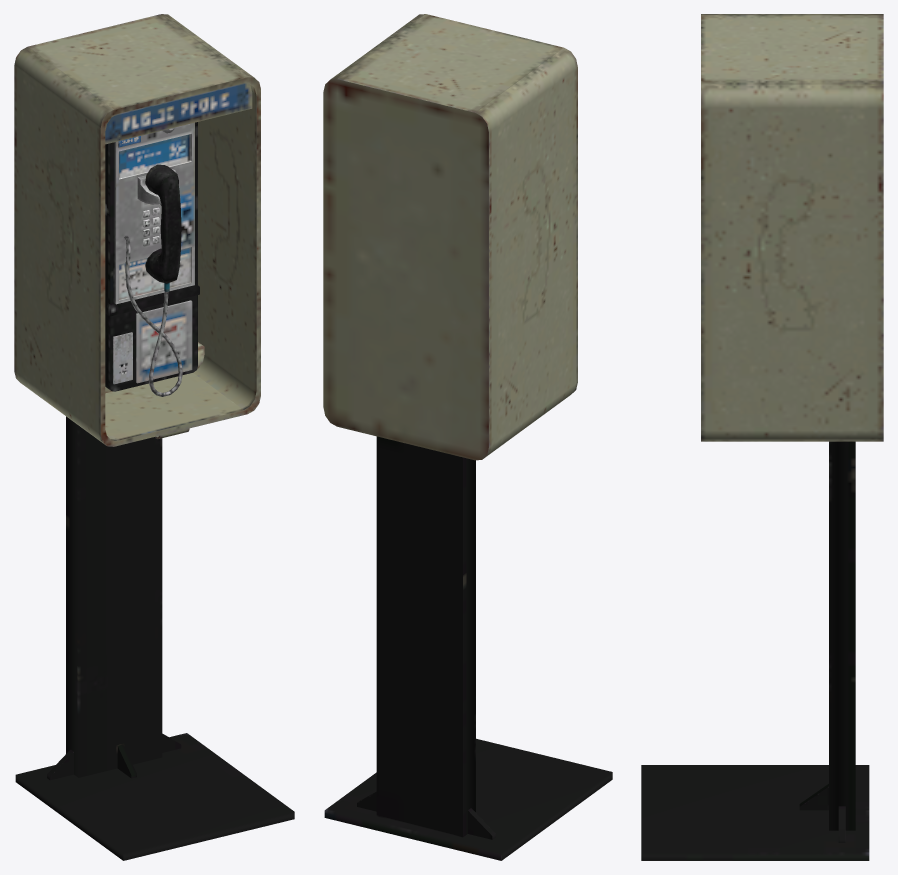
Rendered from 007_publicphone.fbx.
The picture shows the model from 3 angles, left to right: view 1: azimuth 30°, elevation 25°; view 2: azimuth 150°, elevation 25°; view 3: azimuth 270°, elevation 25°; orthographic projection. The views are drawn at different scales.
Parts seen in each view (by area): view 1: LOD_1_Group_1_Sub_1__sm31_007_PublicPhone01A_A_Mat, LOD_1_Group_0_Sub_1__sm31_007_PublicPhone01A_A_Mat, LOD_1_Group_3_Sub_1__sm31_007_PublicPhone01A_A_Mat; view 2: LOD_1_Group_1_Sub_1__sm31_007_PublicPhone01A_A_Mat; view 3: LOD_1_Group_1_Sub_1__sm31_007_PublicPhone01A_A_Mat.
Part boxes in pixels (x1,y1,x2,y2): LOD_1_Group_1_Sub_1__sm31_007_PublicPhone01A_A_Mat: (14, 14, 294, 860); LOD_1_Group_0_Sub_1__sm31_007_PublicPhone01A_A_Mat: (105, 122, 199, 391); LOD_1_Group_3_Sub_1__sm31_007_PublicPhone01A_A_Mat: (124, 164, 182, 396); LOD_1_Group_1_Sub_1__sm31_007_PublicPhone01A_A_Mat: (323, 14, 612, 860); LOD_1_Group_1_Sub_1__sm31_007_PublicPhone01A_A_Mat: (641, 14, 883, 860).
Size of the model in its own units: 0.3712 by 1.5 by 0.4299.
